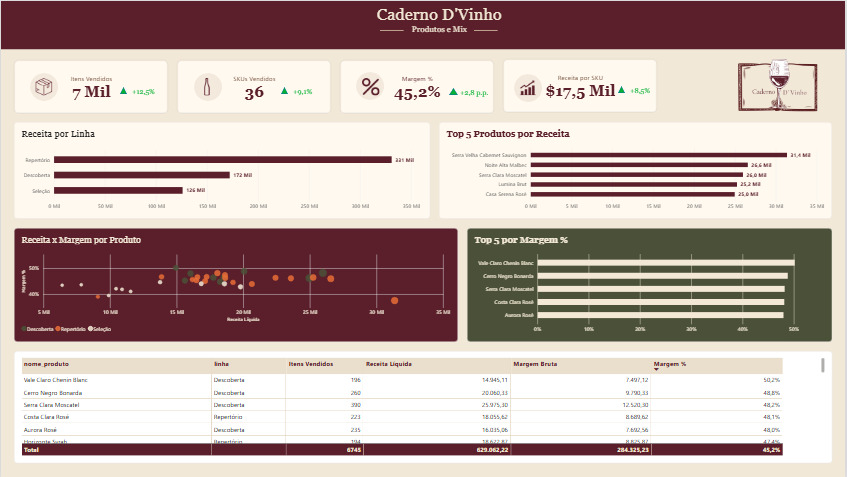

The dashboard page shown, as its layout file describes it:
{"tool":"powerbi","page":{"name":"Produtos & Mix","canvas":[1920,1080],"ordinal":1},"visuals":[{"type":"cardVisual","fields":{"Data":["_Medidas.Receita por SKU"]},"box":[1140,132.5,350,122],"z":0},{"type":"cardVisual","fields":{"Data":["_Medidas.SKUs Vendidos"]},"box":[400,135.1,350,122],"z":0,"group":"g2"},{"type":"shape","box":[1401.4,192.8,16,16],"z":0,"group":"g6"},{"type":"shape","box":[270.8,195.8,16,16],"z":0,"group":"g1"},{"type":"shape","box":[636.1,195.8,16,16],"z":0,"group":"g4"},{"type":"shape","box":[1017.9,197.6,20.4,15.9],"z":0,"group":"g5"},{"type":"shape","box":[438,163.7,64,64],"z":1000,"group":"g2"},{"type":"shape","box":[1165.2,165.2,64,64],"z":1000},{"type":"textbox","box":[1427.8,192.8,55.6,29.2],"z":1000,"group":"g6"},{"type":"textbox","box":[297.2,195.8,55.6,29.2],"z":1000,"group":"g1"},{"type":"textbox","box":[662.5,195.8,55.6,29.2],"z":1000,"group":"g4"},{"type":"textbox","box":[1042.5,197.6,70.7,29],"z":1000,"group":"g5"},{"type":"cardVisual","fields":{"Data":["_Medidas.Itens Vendidos"]},"box":[29.6,135.2,350,122.2],"z":2000},{"type":"image","box":[448.6,176.4,40,40],"z":2000,"group":"g2"},{"type":"clusteredBarChart","title":"Top 5 Produtos por Receita","fields":{"Category":["Produtos.nome_produto"],"Y":["_Medidas.Receita Líquida"]},"box":[996.3,275.9,892.6,220.4],"z":3000},{"type":"cardVisual","fields":{"Data":["_Medidas.Margem %"]},"box":[770,135.1,350,122.2],"z":4000,"group":"g3"},{"type":"group","id":"g1","title":"Grupo 1","box":[270.8,195.8,81.9,29.2],"z":4000},{"type":"clusteredBarChart","title":"Top 5 por Margem %","fields":{"Category":["Produtos.nome_produto"],"Y":["_Medidas.Margem %"]},"box":[1060,515,830.2,259],"z":5000},{"type":"clusteredBarChart","title":"Receita por Linha","fields":{"Category":["Produtos.linha"],"Y":["_Medidas.Receita Líquida"]},"box":[29.6,275,946.3,220.4],"z":6000},{"type":"scatterChart","title":"Receita x Margem por Produto","fields":{"Category":["Produtos.nome_produto"],"Series":["Produtos.linha"],"Size":["_Medidas.Itens Vendidos"],"X":["_Medidas.Receita Líquida"],"Y":["_Medidas.Margem %"]},"box":[30.2,515,1009.3,259],"z":7000},{"type":"tableEx","fields":{"Values":["Produtos.nome_produto","Produtos.linha","_Medidas.Itens Vendidos","_Medidas.Receita Líquida","_Medidas.Margem Bruta","_Medidas.Margem %"]},"box":[30,795,1860,255],"z":8000},{"type":"shape","box":[0.2,0,1919.8,110],"z":9000},{"type":"textbox","box":[839.2,10,314.6,70.2],"z":10000},{"type":"textbox","box":[927.8,54.2,138.2,34],"z":11000},{"type":"shape","box":[861.1,44.4,54.2,43.1],"z":12000},{"type":"shape","box":[1075,44.4,54.2,43.1],"z":13000},{"type":"shape","box":[806.8,163.5,64,64],"z":13000,"group":"g3"},{"type":"shape","box":[65.9,163.7,64,64],"z":14000},{"type":"image","box":[818.9,175.6,40,40],"z":14000,"group":"g3"},{"type":"image","box":[76.4,175,40,40],"z":15000},{"type":"image","box":[1176.8,176.8,40,40],"z":16000},{"type":"group","id":"g2","title":"Grupo 3","box":[400,135.1,350,122],"z":17000},{"type":"group","id":"g3","title":"Grupo 4","box":[770,135.1,350,122.2],"z":18000},{"type":"group","id":"g4","title":"Grupo 1","box":[636.1,195.8,81.9,29.2],"z":19000},{"type":"group","id":"g5","title":"Grupo 1","box":[1017.9,197.6,95.4,29],"z":20000},{"type":"image","box":[1610,102.5,310,182.5],"z":21000},{"type":"group","id":"g6","title":"Grupo 1","box":[1401.4,192.8,81.2,29],"z":22000}]}

Visuals, with their boxes in screenshot pixels (x1, y1, x2, y2), scaled from the page's 1920x1080 canvas onto the 847x477 screenshot:
cardVisual - _Medidas.Receita por SKU: BBox(503, 59, 657, 112)
cardVisual - _Medidas.SKUs Vendidos: BBox(176, 60, 331, 114)
shape: BBox(618, 85, 625, 92)
shape: BBox(119, 86, 127, 94)
shape: BBox(281, 86, 288, 94)
shape: BBox(449, 87, 458, 94)
shape: BBox(193, 72, 221, 101)
shape: BBox(514, 73, 542, 101)
textbox: BBox(630, 85, 654, 98)
textbox: BBox(131, 86, 156, 99)
textbox: BBox(292, 86, 317, 99)
textbox: BBox(460, 87, 491, 100)
cardVisual - _Medidas.Itens Vendidos: BBox(13, 60, 167, 114)
image: BBox(198, 78, 216, 96)
"Top 5 Produtos por Receita" clusteredBarChart: BBox(440, 122, 833, 219)
cardVisual - _Medidas.Margem %: BBox(340, 60, 494, 114)
"Grupo 1" group: BBox(119, 86, 156, 99)
"Top 5 por Margem %" clusteredBarChart: BBox(468, 227, 834, 342)
"Receita por Linha" clusteredBarChart: BBox(13, 121, 431, 219)
"Receita x Margem por Produto" scatterChart: BBox(13, 227, 459, 342)
tableEx - Produtos.nome_produto x Produtos.linha: BBox(13, 351, 834, 464)
shape: BBox(0, 0, 846, 49)
textbox: BBox(370, 4, 509, 35)
textbox: BBox(409, 24, 470, 39)
shape: BBox(380, 20, 404, 39)
shape: BBox(474, 20, 498, 39)
shape: BBox(356, 72, 384, 100)
shape: BBox(29, 72, 57, 101)
image: BBox(361, 78, 379, 95)
image: BBox(34, 77, 51, 95)
image: BBox(519, 78, 537, 96)
"Grupo 3" group: BBox(176, 60, 331, 114)
"Grupo 4" group: BBox(340, 60, 494, 114)
"Grupo 1" group: BBox(281, 86, 317, 99)
"Grupo 1" group: BBox(449, 87, 491, 100)
image: BBox(710, 45, 846, 126)
"Grupo 1" group: BBox(618, 85, 654, 98)
